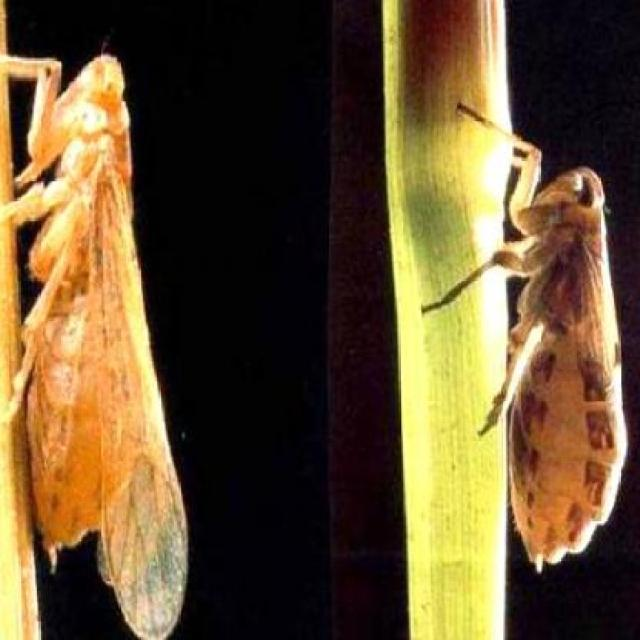brown-planthopper: (6, 34, 186, 640), (500, 135, 632, 578)
